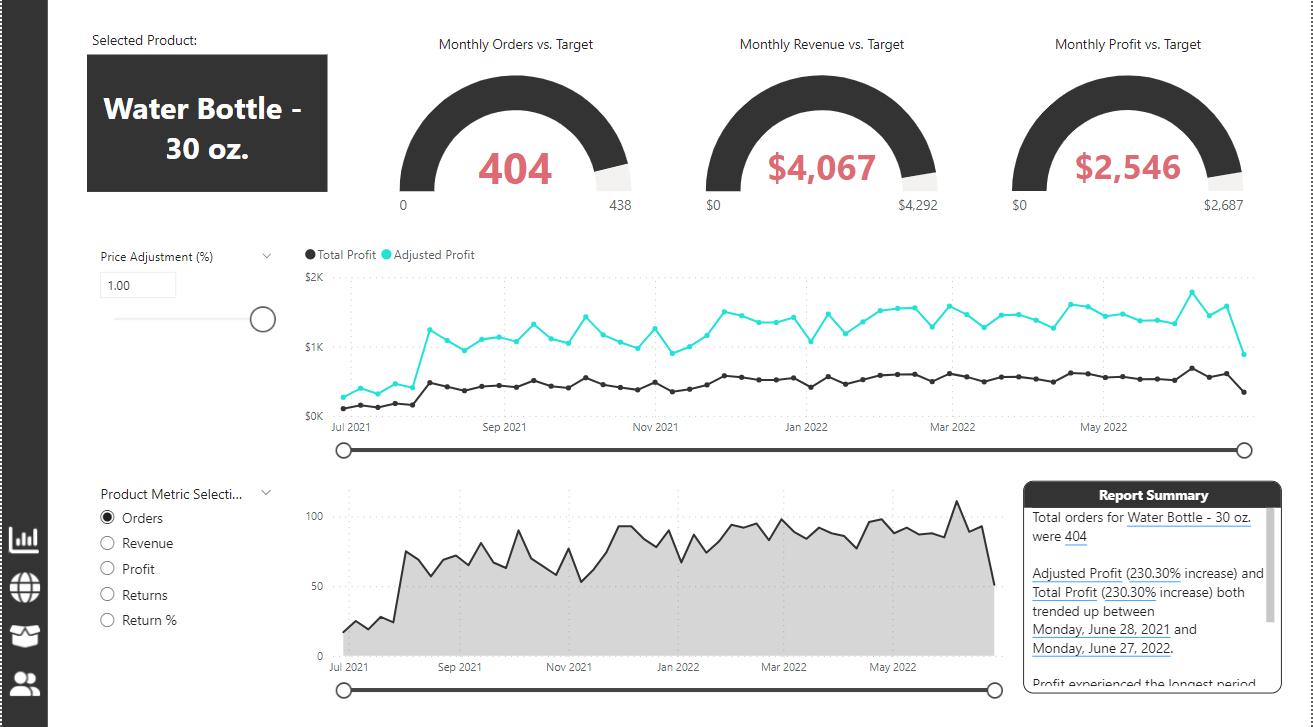

What the dashboard file says about the page in this screenshot:
{"tool":"powerbi","page":{"name":"Product Detail","canvas":[1280,720],"ordinal":2},"visuals":[{"type":"shape","box":[0,0,45,720],"z":0},{"type":"actionButton","box":[2.5,516.7,45.6,37.8],"z":0,"group":"g1"},{"type":"gauge","title":"Monthly Orders vs. Target","fields":{"Y":["Measure Table.Total Orders"],"MaxValue":["Measure Table.Order Target"]},"box":[383.7,41.5,236.9,203.7],"z":1000},{"type":"actionButton","box":[3.3,563.4,45.6,37.8],"z":1000,"group":"g1"},{"type":"gauge","title":"Monthly Revenue vs. Target","fields":{"Y":["Measure Table.Total Revenue"],"MaxValue":["Measure Table.Revenue Target"]},"box":[683.5,41.5,236.9,203.7],"z":2000},{"type":"actionButton","box":[3.3,611.1,45.6,37.8],"z":2000,"group":"g1"},{"type":"gauge","title":"Monthly Profit vs. Target","fields":{"Y":["Measure Table.Total Profit"],"MaxValue":["Measure Table.Profit Target"]},"box":[983.4,41.8,236.2,203.5],"z":3000},{"type":"actionButton","box":[3.3,657.8,45.6,37.8],"z":3000,"group":"g1"},{"type":"lineChart","title":"Profit Trending","fields":{"Category":["Calendar Lookup.Date Hierarchy.Year","Calendar Lookup.Date Hierarchy.Start of Month","Calendar Lookup.Date Hierarchy.Start of Week","Calendar Lookup.Date Hierarchy.Date"],"Y":["Measure Table.Total Profit","Measure Table.Adjusted Profit"]},"box":[290.5,237.4,952.8,221.5],"z":4000},{"type":"areaChart","title":"Return Trending","fields":{"Y":["Measure Table.Return Rate"],"Category":["Calendar Lookup.Date Hierarchy.Year","Calendar Lookup.Date Hierarchy.Start of Month","Calendar Lookup.Date Hierarchy.Start of Week","Calendar Lookup.Date Hierarchy.Date"]},"box":[290.5,471.3,708.7,221.5],"z":5000},{"type":"card","fields":{"Values":["Min(Product Lookup.ProductName)"]},"box":[83.6,61,235.1,134.5],"z":6000},{"type":"textbox","box":[83.6,32.8,136.8,36.2],"z":7000},{"type":"group","id":"g1","title":"Navigation Buttons","box":[2.5,516.7,46.4,178.9],"z":8000},{"type":"slicer","fields":{"Values":["Price Adjustment (%).Price Adjustment (%)"]},"box":[83.6,245.3,193.3,123.2],"z":9000},{"type":"slicer","fields":{"Values":["Product Metric Selection.Product Metric Selection"]},"box":[83.6,477,193.3,180.8],"z":10000},{"type":"textbox","title":"Report Summary","box":[999.2,478.1,253.2,208],"z":11000}]}

Visuals, with their boxes on the page's 1280x720 design canvas (x1, y1, x2, y2). These are canvas units, not pixel positions in the 1313x727 screenshot, which may show the page scaled, cropped or inside an application window:
shape: (x1=0, y1=0, x2=45, y2=720)
actionButton: (x1=2, y1=517, x2=48, y2=554)
"Monthly Orders vs. Target" gauge: (x1=384, y1=42, x2=621, y2=245)
actionButton: (x1=3, y1=563, x2=49, y2=601)
"Monthly Revenue vs. Target" gauge: (x1=684, y1=42, x2=920, y2=245)
actionButton: (x1=3, y1=611, x2=49, y2=649)
"Monthly Profit vs. Target" gauge: (x1=983, y1=42, x2=1220, y2=245)
actionButton: (x1=3, y1=658, x2=49, y2=696)
"Profit Trending" lineChart: (x1=290, y1=237, x2=1243, y2=459)
"Return Trending" areaChart: (x1=290, y1=471, x2=999, y2=693)
card - Min(Product Lookup.ProductName): (x1=84, y1=61, x2=319, y2=196)
textbox: (x1=84, y1=33, x2=220, y2=69)
"Navigation Buttons" group: (x1=2, y1=517, x2=49, y2=696)
slicer - Price Adjustment (%).Price Adjustment (%): (x1=84, y1=245, x2=277, y2=368)
slicer - Product Metric Selection.Product Metric Selection: (x1=84, y1=477, x2=277, y2=658)
"Report Summary" textbox: (x1=999, y1=478, x2=1252, y2=686)
